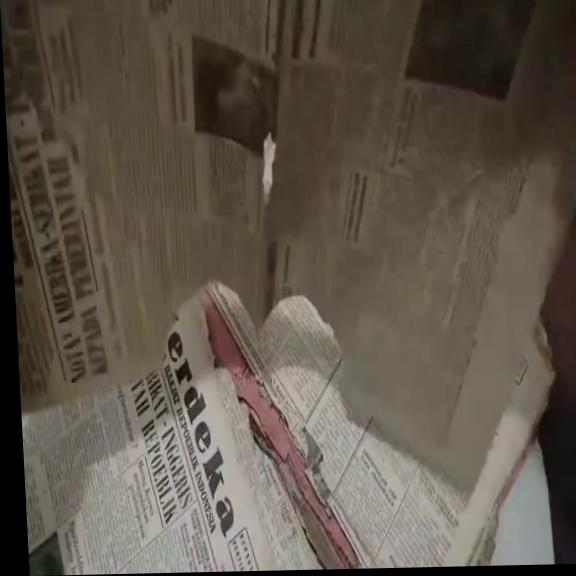Kertas: (2, 0, 297, 410)
